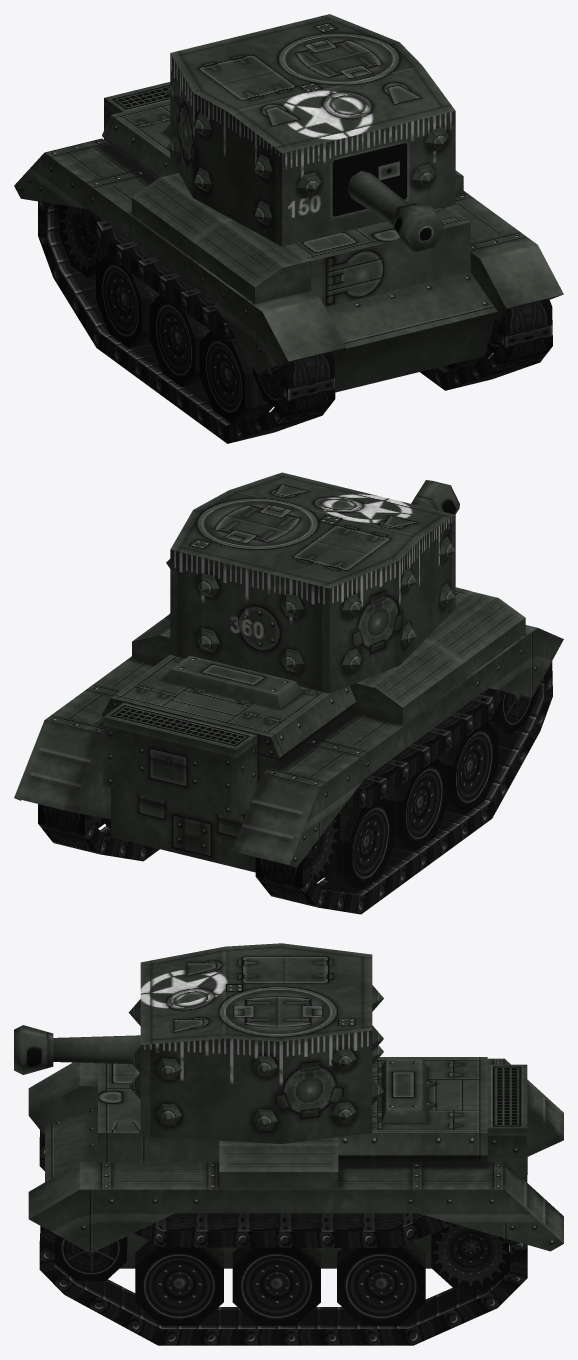
File: Cromwell_SD_Model_Track.FBX
The picture shows the model from 3 angles, top to bottom: view 1: azimuth 30°, elevation 25°; view 2: azimuth 150°, elevation 25°; view 3: azimuth 270°, elevation 25°; orthographic projection. The views are drawn at different scales.
Parts seen in each view (by area): view 1: Body, Turret, RightTrack, LeftTrack, Cannon; view 2: Body, Turret, RightTrack, LeftTrack, Cannon; view 3: Body, LeftTrack, Turret, Cannon.
Boxes of the visible parts, <box> form: Body: <box>14,82,563,392</box>; Turret: <box>166,14,455,246</box>; RightTrack: <box>38,201,335,443</box>; LeftTrack: <box>420,298,552,390</box>; Cannon: <box>347,171,443,252</box>; Body: <box>14,587,563,872</box>; Turret: <box>166,472,455,693</box>; RightTrack: <box>255,661,552,914</box>; LeftTrack: <box>38,804,159,861</box>; Cannon: <box>411,480,459,514</box>; Body: <box>28,1057,563,1268</box>; LeftTrack: <box>39,1213,527,1345</box>; Turret: <box>128,943,383,1143</box>; Cannon: <box>14,1025,140,1074</box>.
Size of the model in its own units: 1.04 by 1.07 by 1.85.
2 materials, 2 textured.
